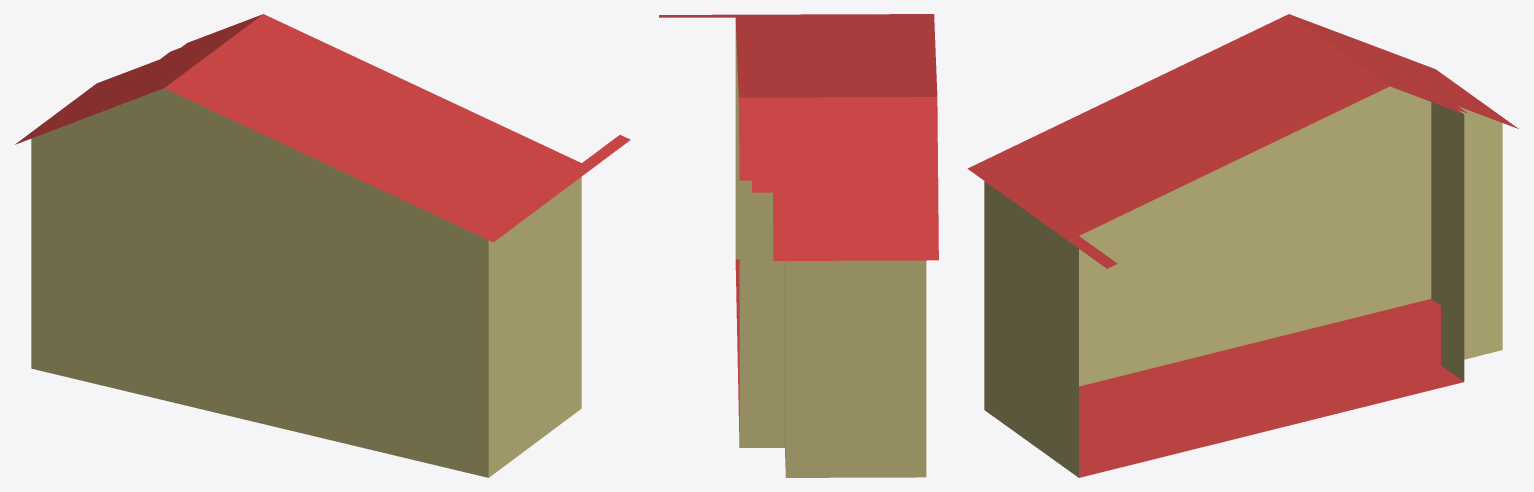
3 renders of one model, left to right at view 1: azimuth 30°, elevation 25°; view 2: azimuth 150°, elevation 25°; view 3: azimuth 270°, elevation 25°, orthographic.
Size of the model in its own units: 20.63 by 22.2 by 13.93.
